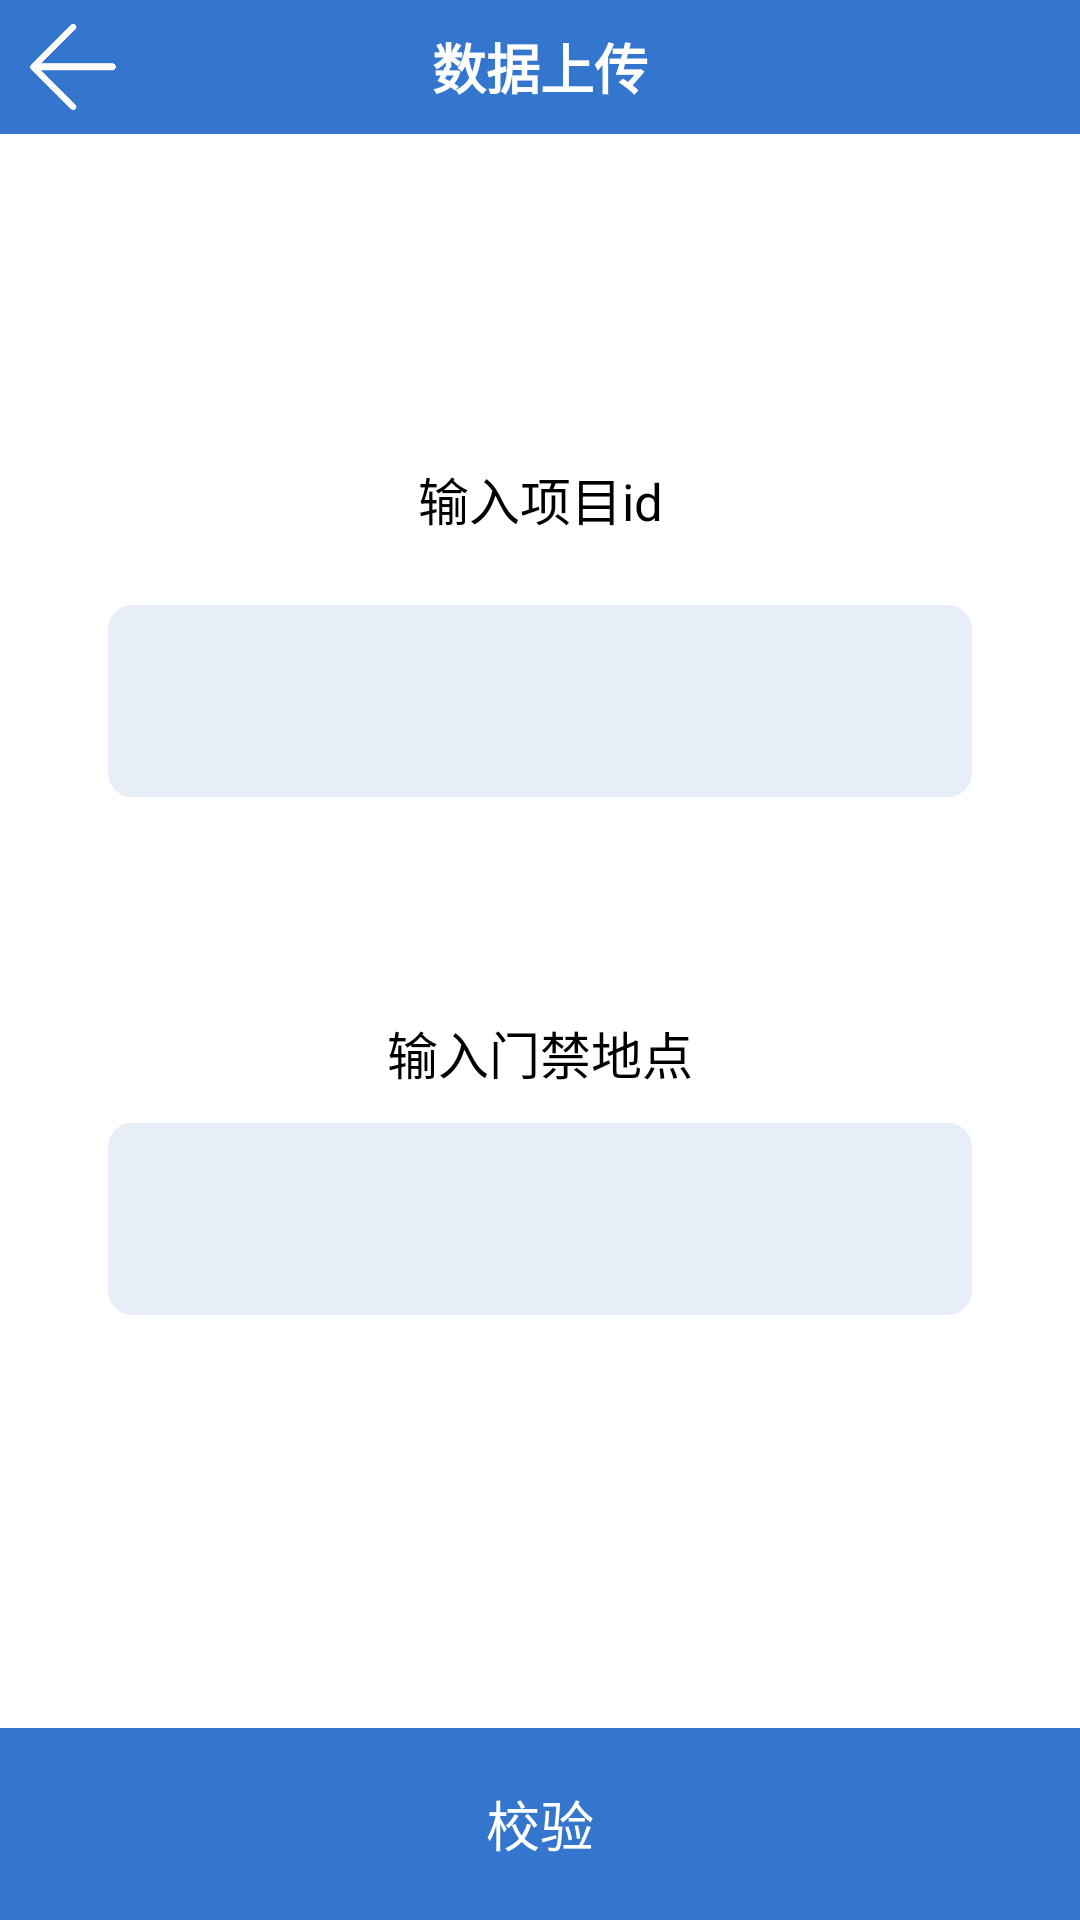

Where icons sit on this 1080 × 1920 app screen, as (x1, y1, x2, y2):
back: (30, 24, 116, 110)
